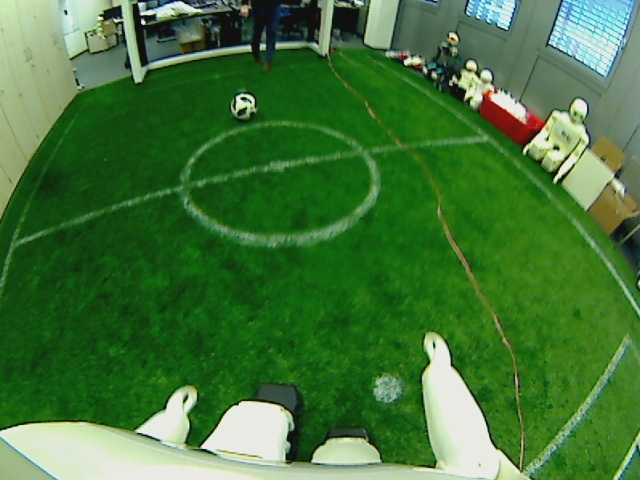ball: (229, 89, 257, 123)
